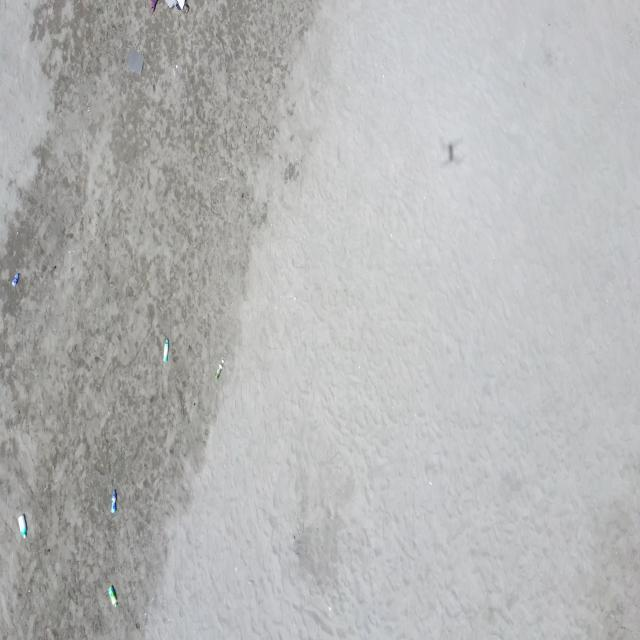plastic-bottle: (213, 358, 225, 380), (18, 513, 27, 540), (108, 586, 118, 610), (110, 489, 118, 514), (162, 339, 170, 364), (12, 272, 19, 287)
